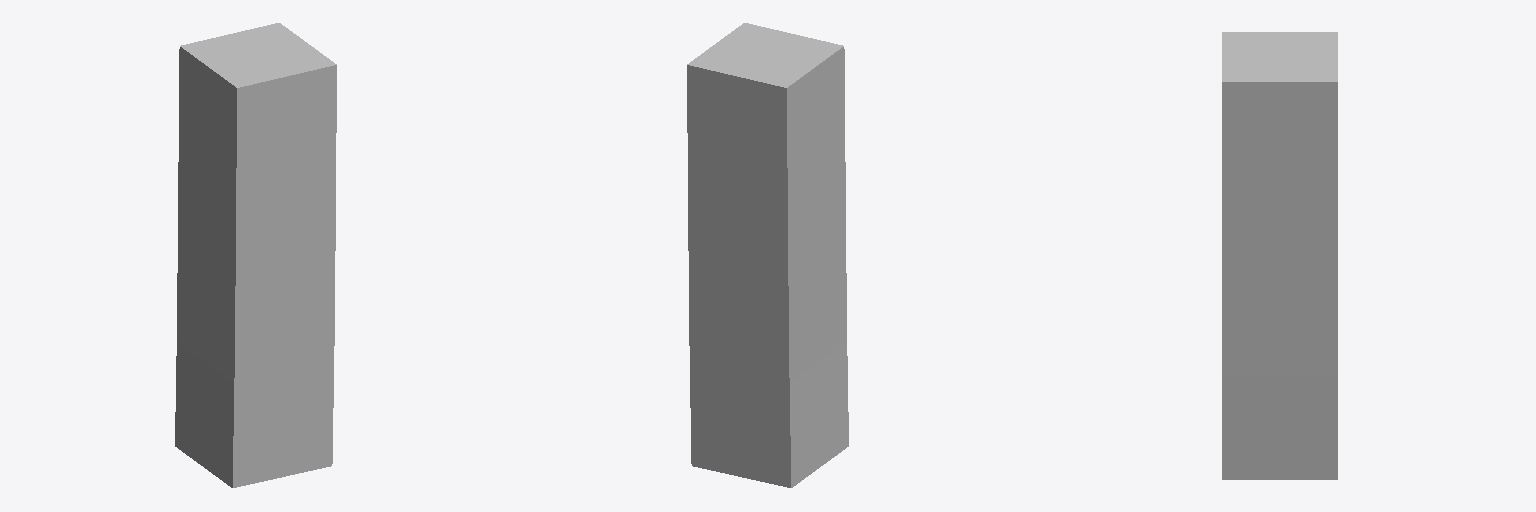
File: Animation_000080.obj
3 views of the same model, side by side, from view 1: azimuth 30°, elevation 25°; view 2: azimuth 150°, elevation 25°; view 3: azimuth 270°, elevation 25° (orthographic).
Visible parts, largest first — view 1: Cube; view 2: Cube; view 3: Cube.
Boxes of the visible parts, x1=… form: Cube: x1=175, y1=23, x2=336, y2=487; Cube: x1=687, y1=23, x2=848, y2=487; Cube: x1=1222, y1=32, x2=1337, y2=479.
Size of the model in its own units: 1.39 by 5.11 by 1.33.